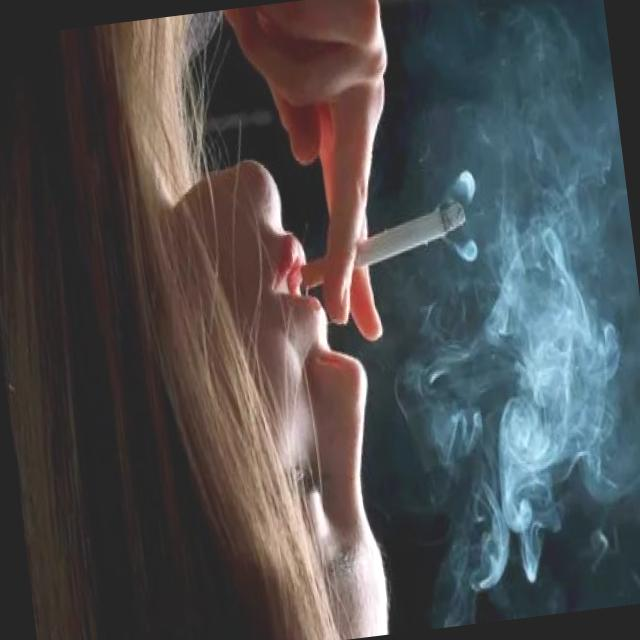smoke: (286, 190, 476, 294)
